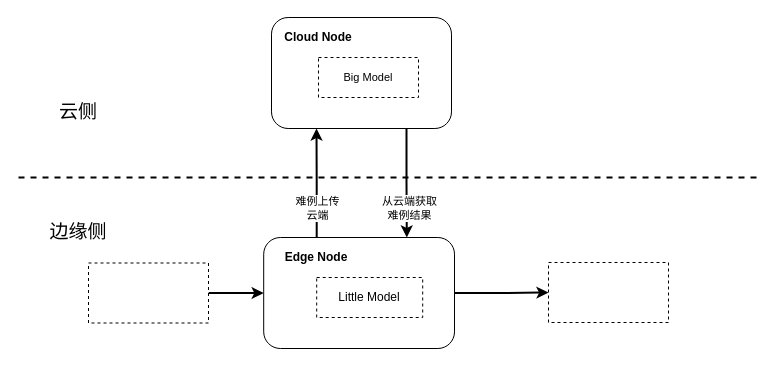
Image size: 777x366. Some labels were removed from this diagram. The centre of each missing label's shape, as x and y in pixels:
输入图像: point (148, 292)
输出结果: point (608, 292)
